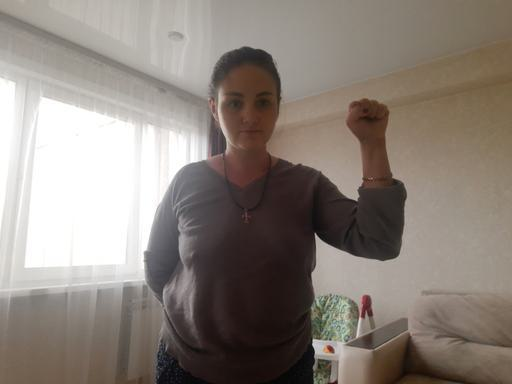fist: (346, 96, 392, 140)
